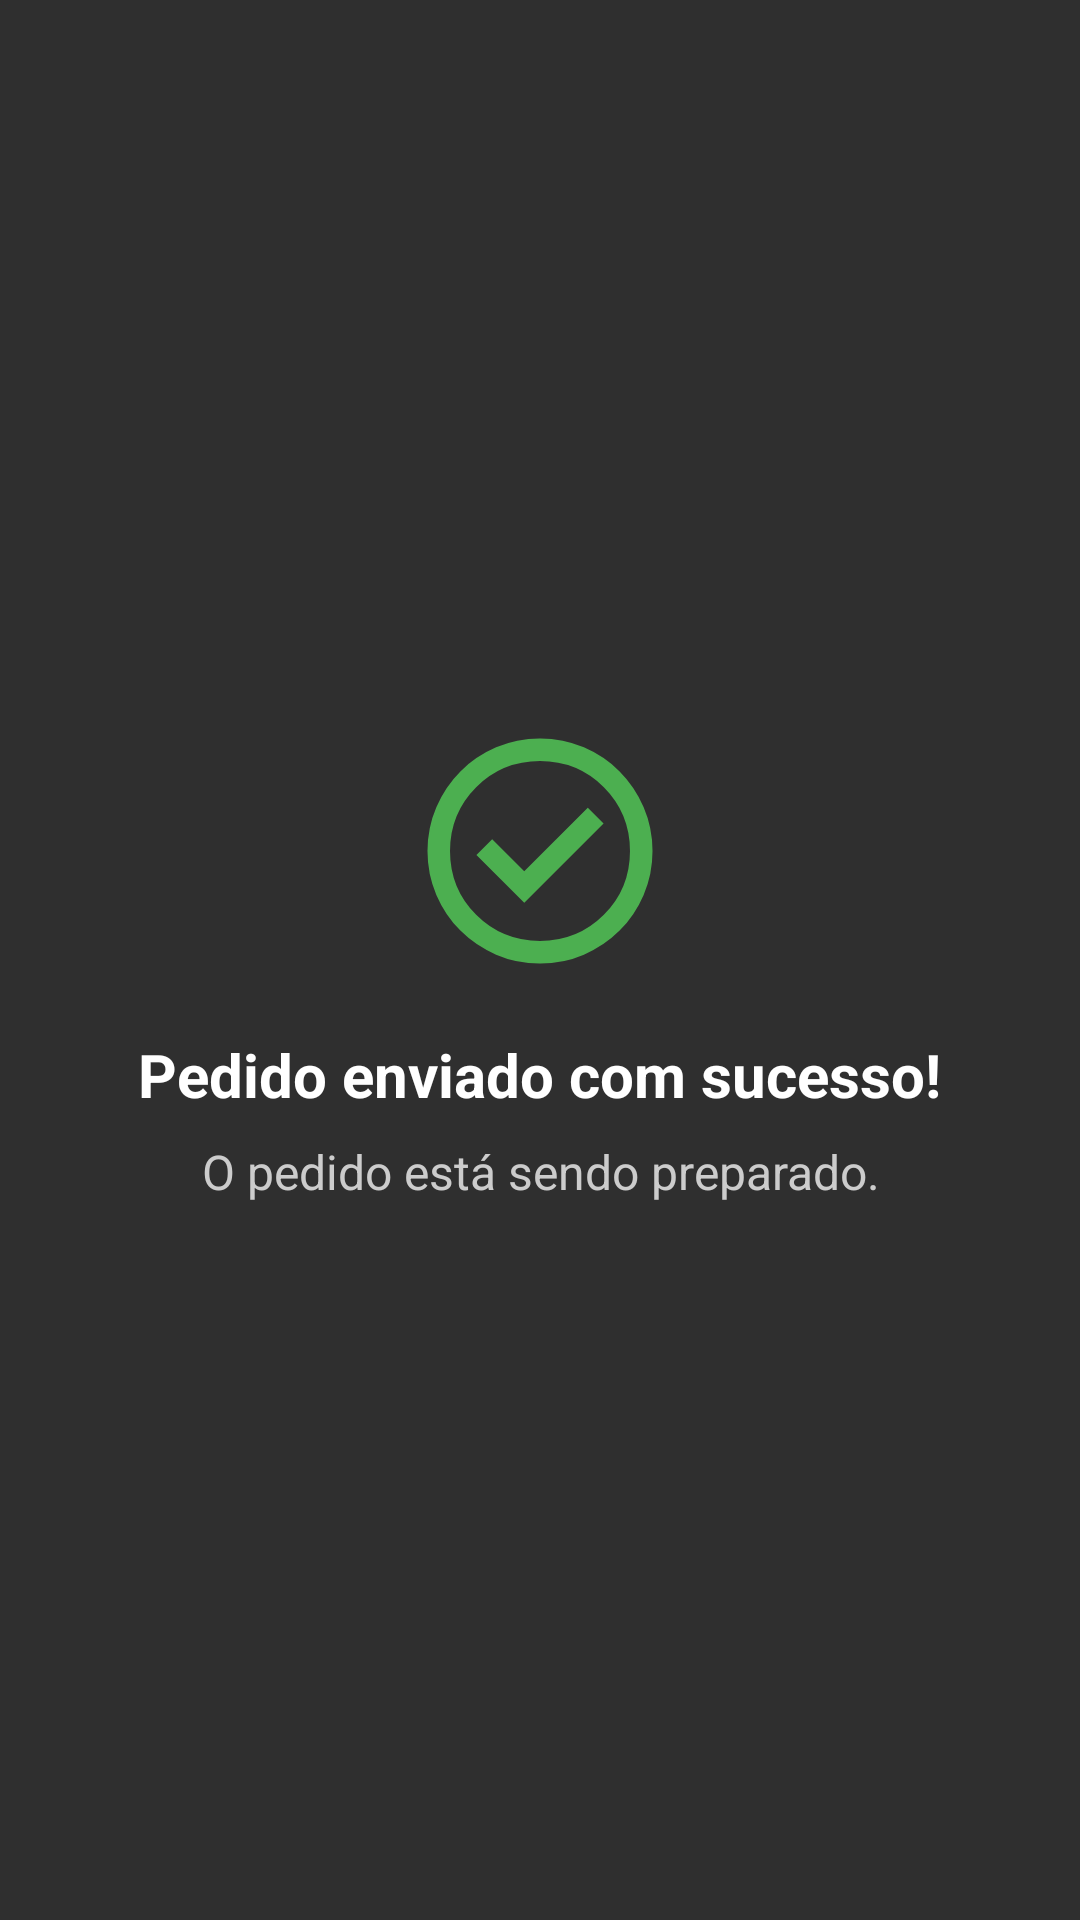

Icon bounding boxes for this 1080px×1920px phone screenshot, format (x1, y1, x2, y2):
check circle: (427, 738, 653, 964)
